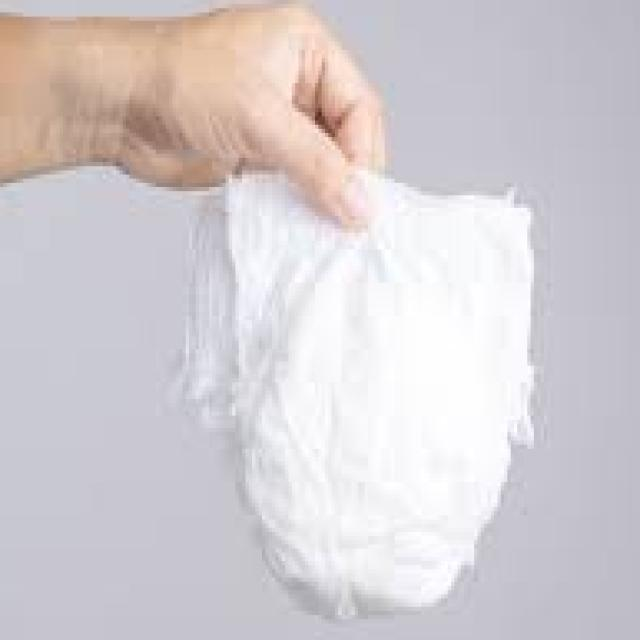organic: (164, 163, 584, 618)
